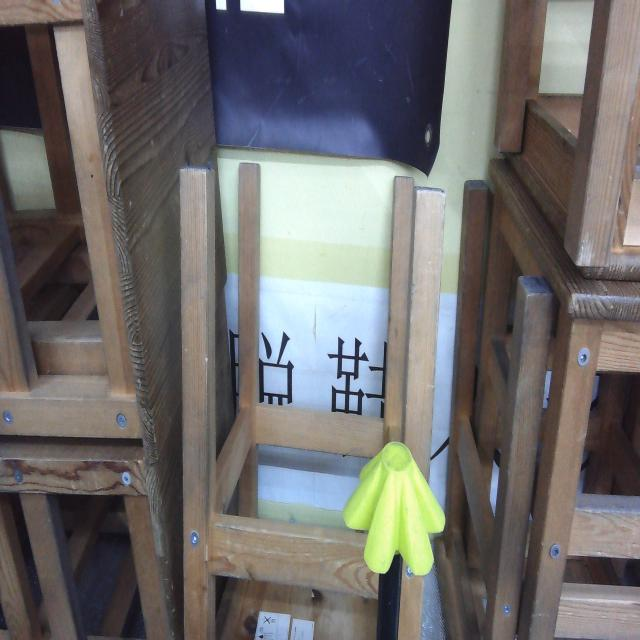Yellow-Stake-Head: (342, 440, 446, 578)
